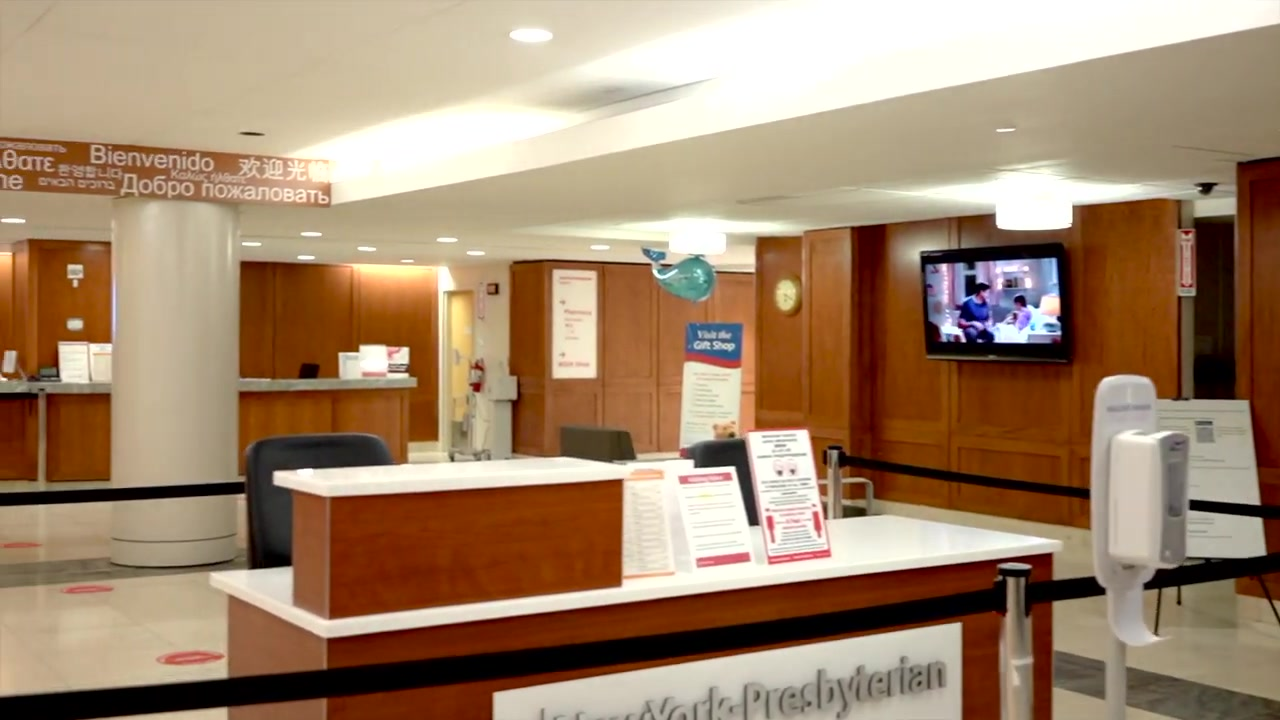TV: (919, 245, 1061, 362)
chair: (243, 432, 405, 569)
counter: (214, 459, 1061, 720), (238, 376, 415, 473), (1, 374, 112, 480)
countertop: (628, 511, 1061, 596)
dispenser: (1119, 421, 1190, 648)
